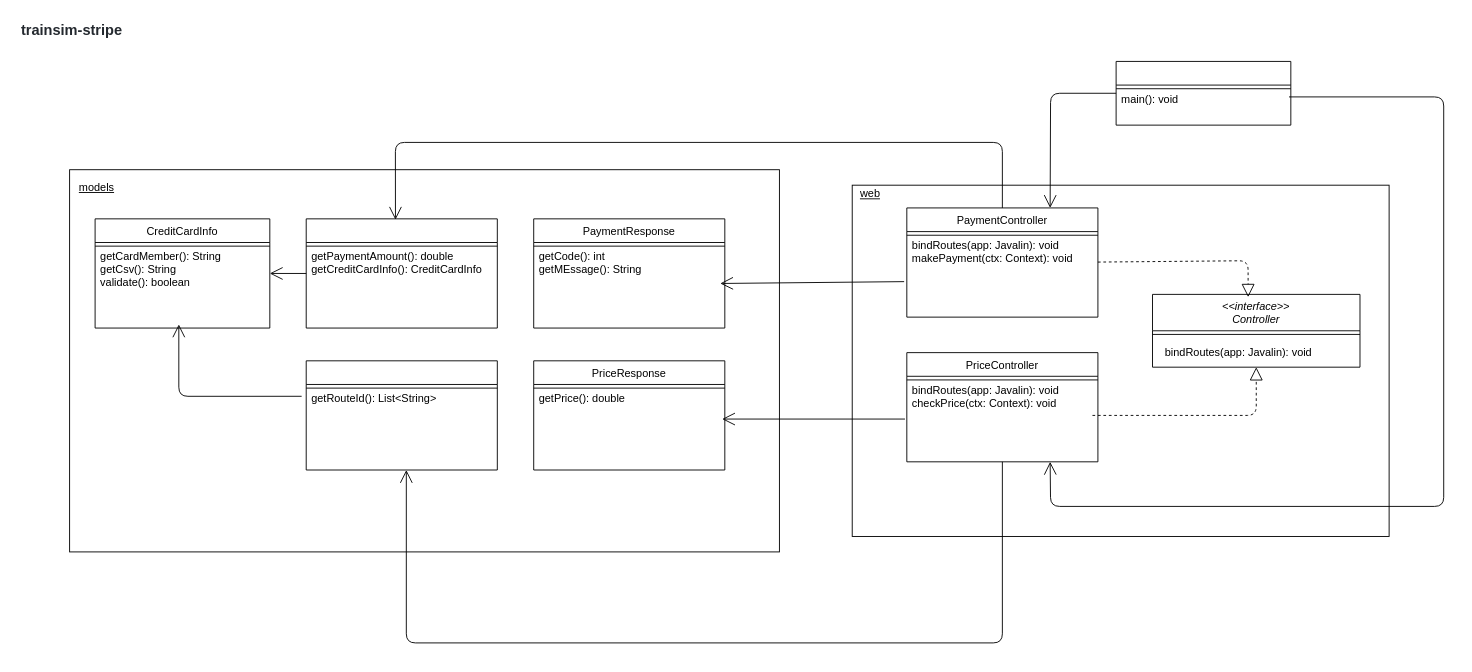
The diagram is 1472 pixels wide and 672 high, and some of its shapes have lost their labels. Here are the shapes that lost their labels. From the top down, the box of each, then its label:
(1115, 61, 1291, 125): App
(305, 218, 497, 328): PaymentRequest
(305, 360, 497, 470): PriceRequest
